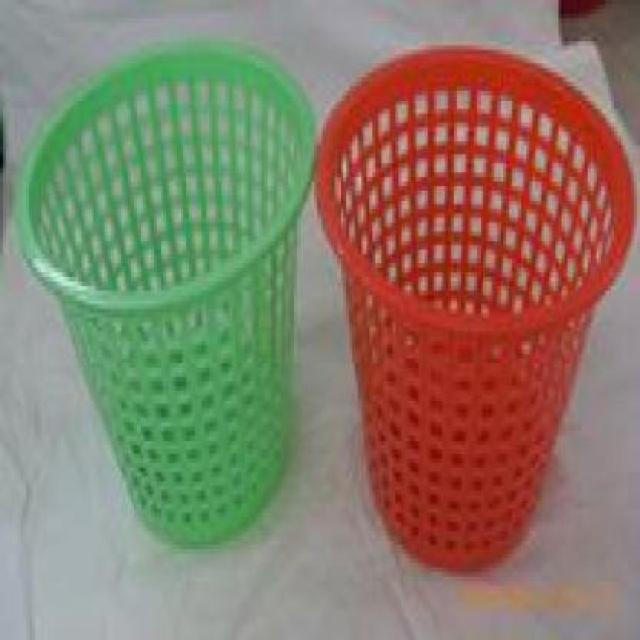dustbin: (312, 42, 638, 579), (10, 36, 318, 556)
